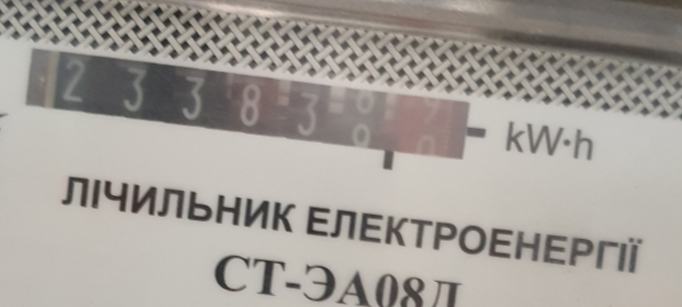0: (412, 130, 441, 157)
2: (57, 54, 90, 105)
3: (117, 63, 150, 115), (292, 87, 323, 138), (178, 72, 208, 124)
8: (235, 80, 265, 128), (350, 87, 380, 117)
9: (346, 118, 376, 150), (416, 95, 444, 126)
screen: (10, 35, 489, 182)
